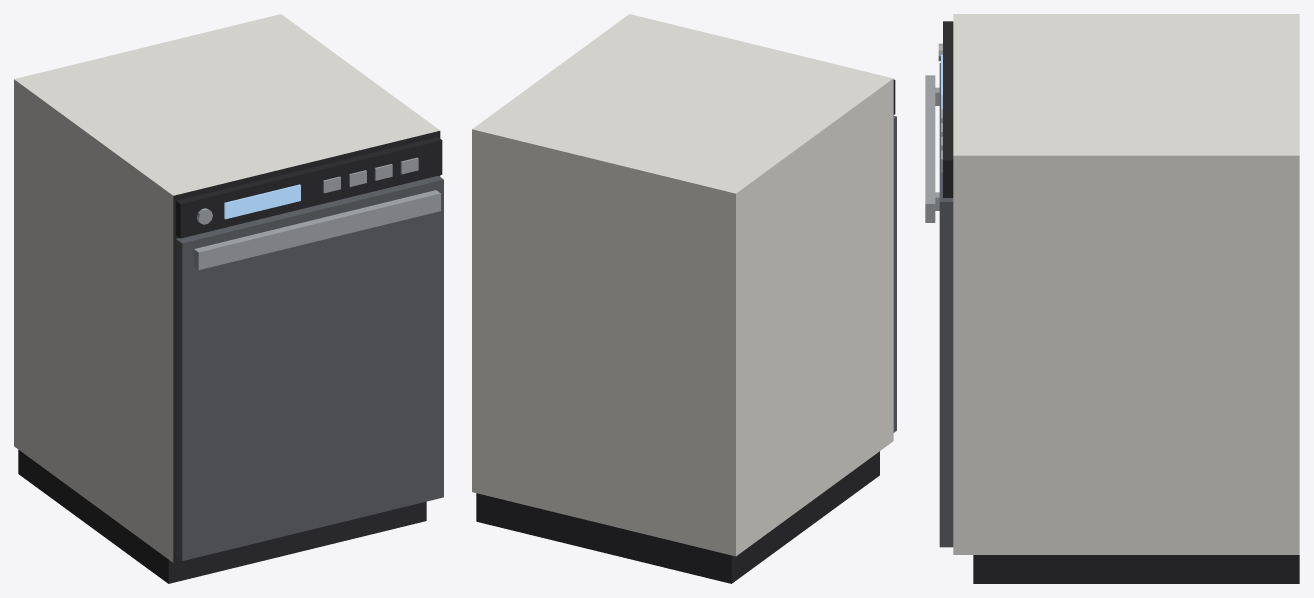
Rendered from FN_Appliance_Dishwasher.glb.
3 renders of one model, left to right at view 1: azimuth 30°, elevation 25°; view 2: azimuth 150°, elevation 25°; view 3: azimuth 270°, elevation 25°, orthographic. The views are drawn at different scales.
Visible parts, largest first — view 1: FN_Appliance_Dishwasher; view 2: FN_Appliance_Dishwasher; view 3: FN_Appliance_Dishwasher.
Boxes of the visible parts, <box> form: FN_Appliance_Dishwasher: <box>14,14,443,583</box>; FN_Appliance_Dishwasher: <box>472,14,896,583</box>; FN_Appliance_Dishwasher: <box>925,14,1299,583</box>.
Bounding box in the file's own units: 0.6 × 0.85 × 0.67.
Materials: 2 (2 with a texture image).
